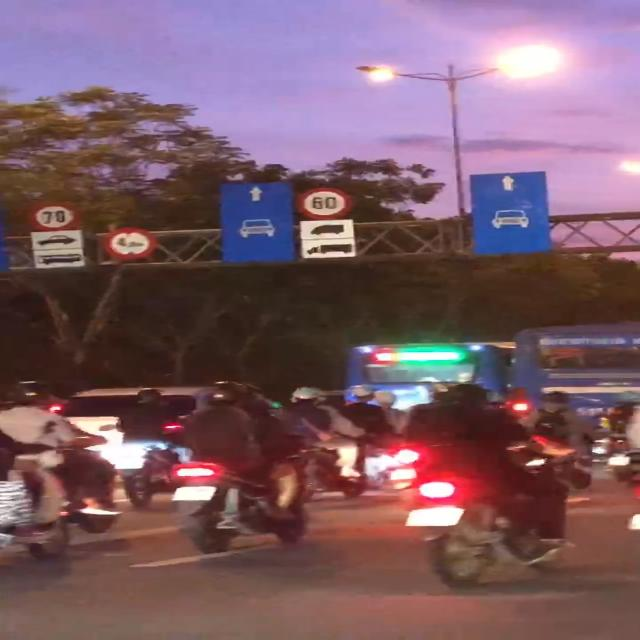Bien bao han che chieu cao: (102, 225, 157, 262)
Bien bao toc do toi da cho phep: (294, 185, 364, 224), (25, 200, 81, 232)
